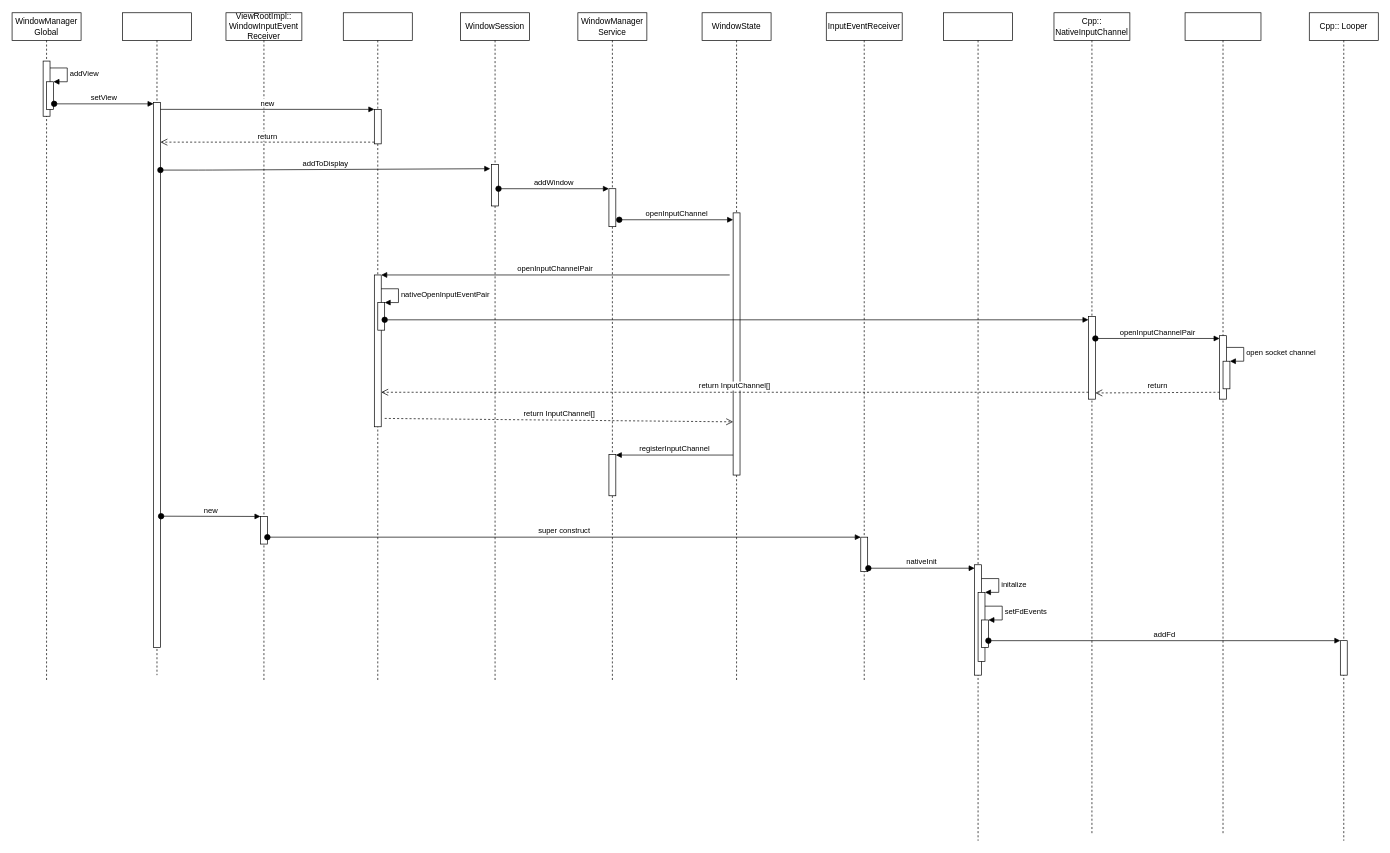
Some shapes in this 1390 by 853 pixel diagram are drawn without their labels. The box of each missing label's shape, as (x1, y1, x2, y2) in pixels:
Cpp:: InputTransport:: InputChannel: (1184, 12, 1261, 834)
Cpp:: NativeInputEvent Receiver: (943, 12, 1013, 841)
InputChannel: (343, 12, 412, 682)
ViewRootImpl: (122, 12, 191, 675)
